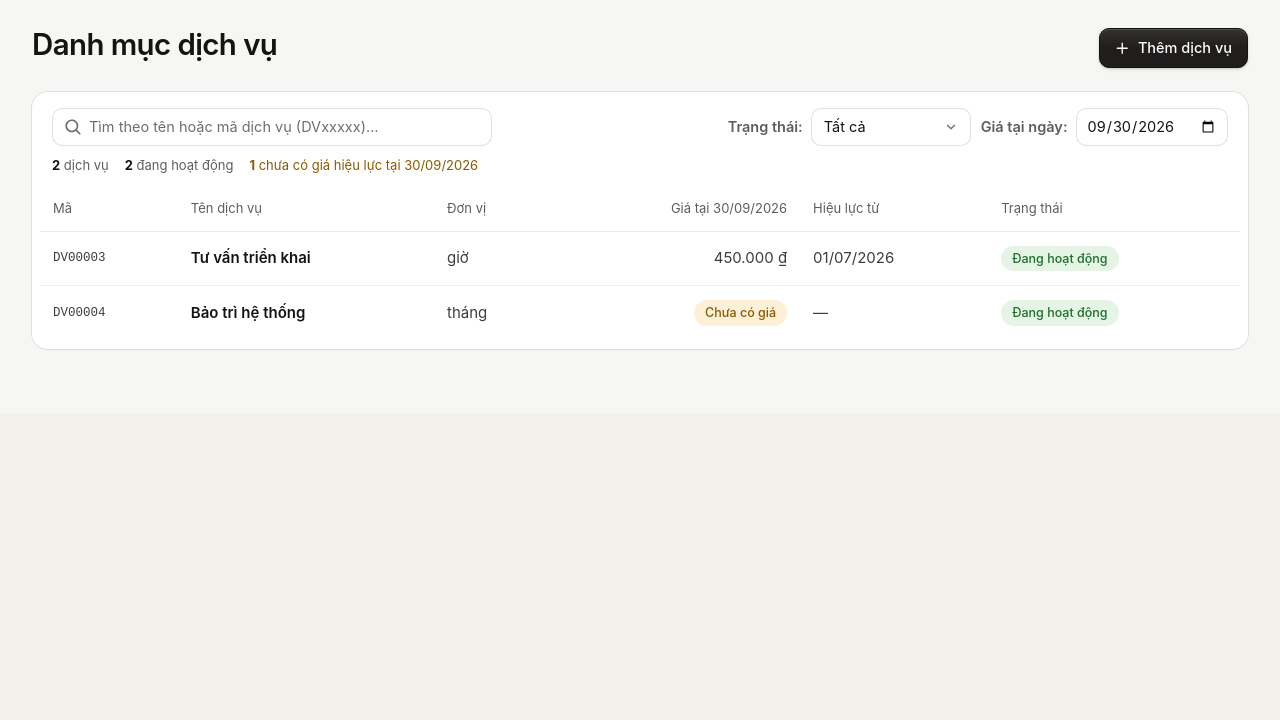
Test: ServiceCatalogPage (NCL-15-CN-001) › kiểm tra dữ liệu bắt buộc trên form trước khi gửi
Expected: the row with test id "svc-row-3" is shown, top-left (40, 232), bottom-right (1240, 286)
Step 1. Click the button with test id "svc-btn-create" → (1174, 48), box top-left (1099, 28), bottom-right (1248, 68)
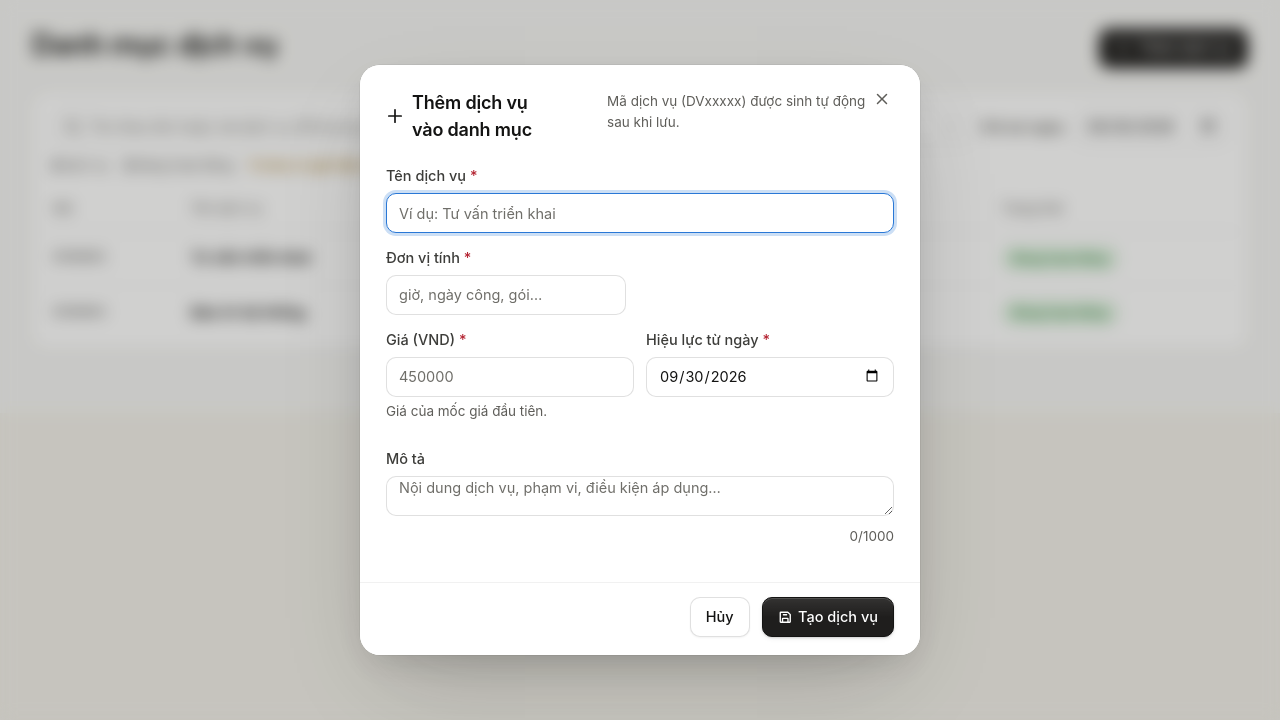
Step 2. Type "0" into the field with test id "svc-input-price" → (510, 377), box top-left (386, 357), bottom-right (634, 397)
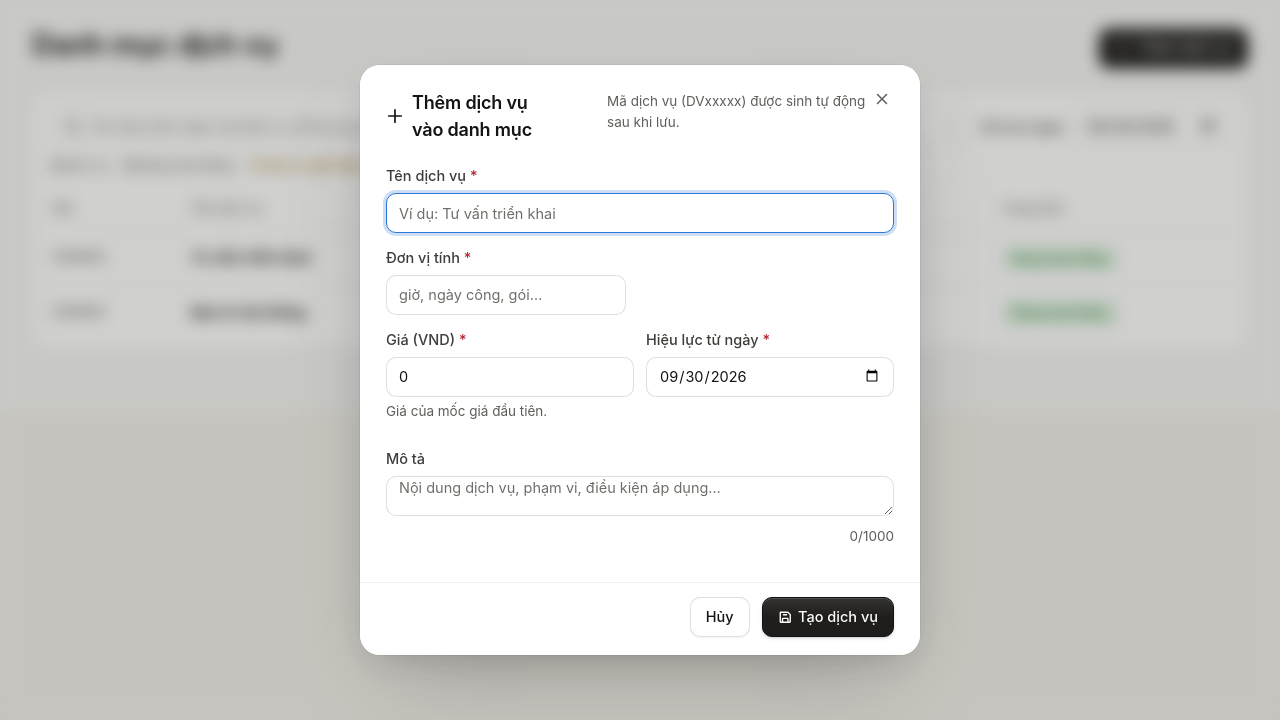
Step 3. Click the button with test id "svc-submit" → (828, 617), box top-left (762, 597), bottom-right (894, 637)
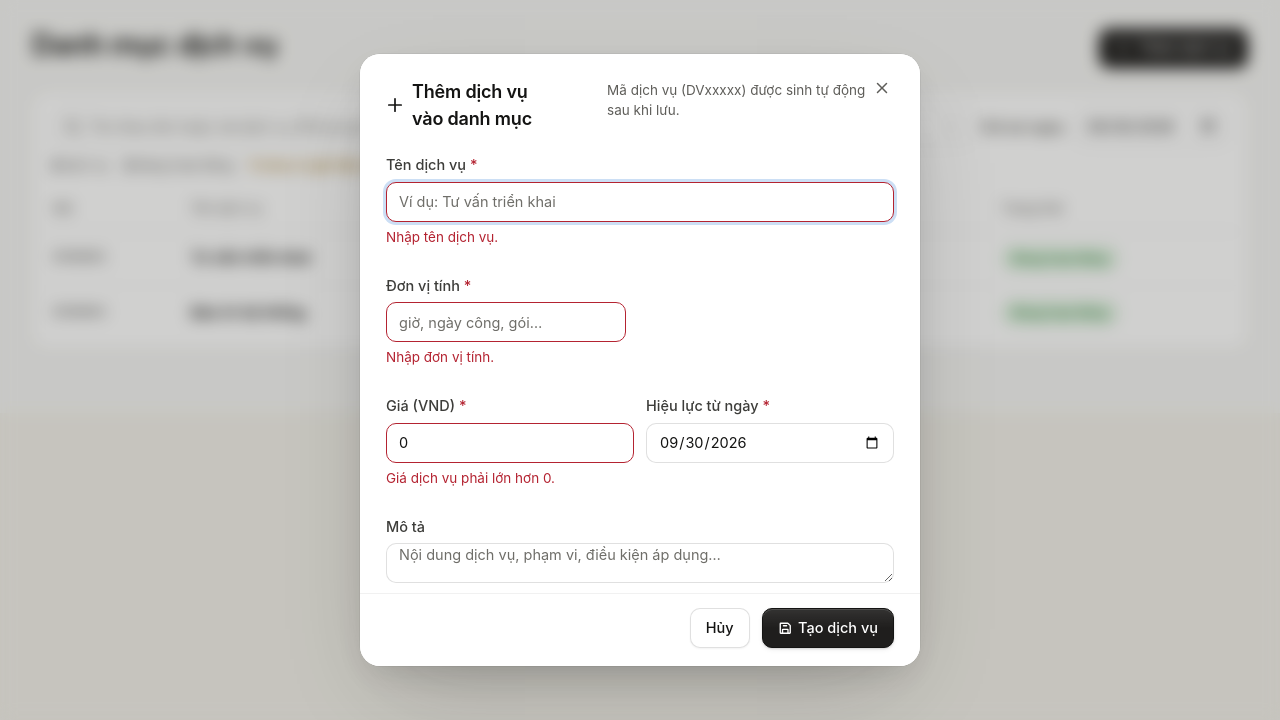
Expected: the message with test id "svc-error-name" reads "Nhập tên dịch vụ.", top-left (386, 229), bottom-right (498, 245)
Expected: the message with test id "svc-error-unit" reads "Nhập đơn vị tính.", top-left (386, 349), bottom-right (494, 365)
Expected: the message with test id "svc-error-price" shows "lớn hơn 0", top-left (386, 470), bottom-right (555, 486)
